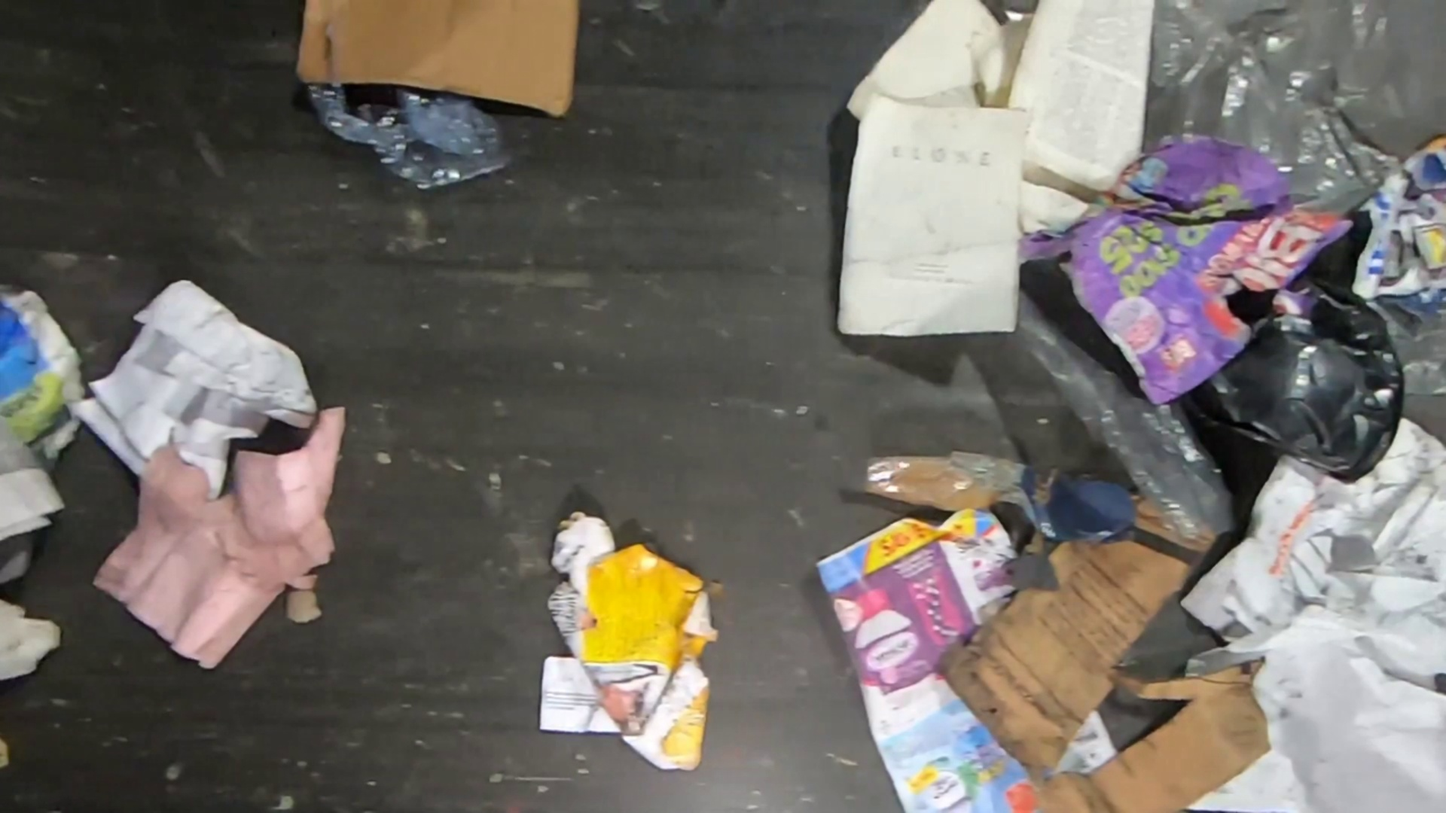cardboard: (942, 543, 1271, 813), (539, 511, 720, 769), (858, 450, 1178, 558), (294, 0, 580, 119)
plastic: (1014, 263, 1281, 544), (1142, 0, 1417, 213), (1190, 283, 1406, 482), (305, 83, 513, 191), (1374, 301, 1446, 396)
